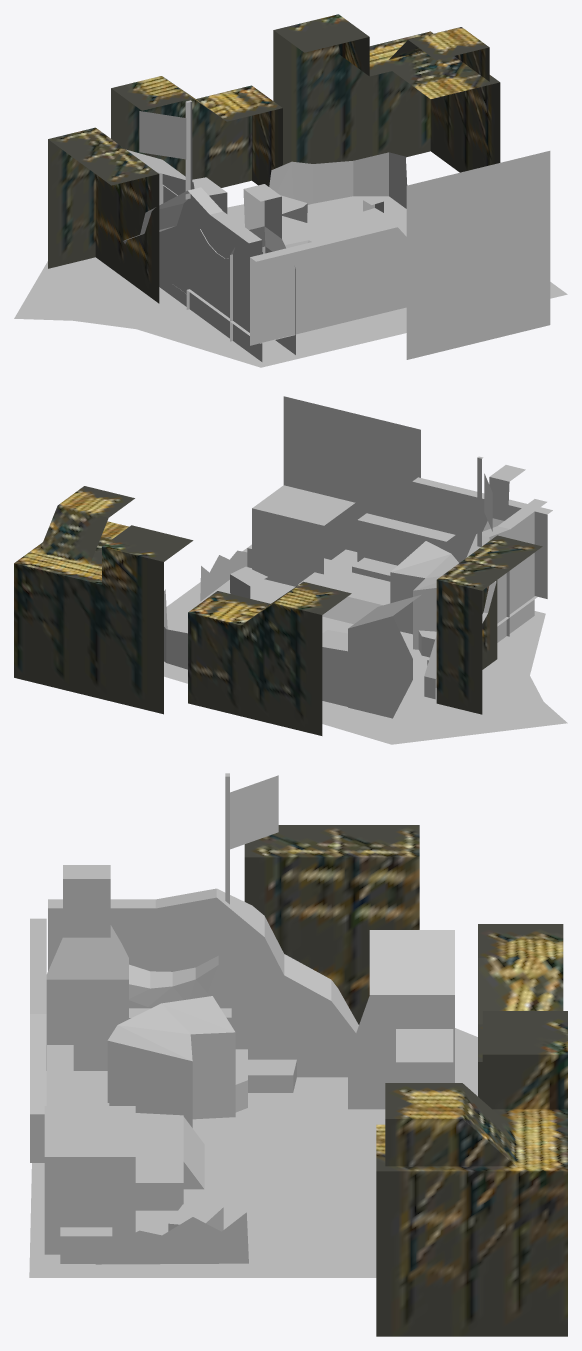
Rendered from T_SupplyTent_01.fbx.
3 renders of one model, top to bottom at view 1: azimuth 30°, elevation 25°; view 2: azimuth 150°, elevation 25°; view 3: azimuth 270°, elevation 25°, orthographic. The views are drawn at different scales.
Parts seen in each view (by area): view 1: T_SupplyTent_01, T_BuildForm_01, T_BuildForm_02 (4), T_BuildForm_03 (1); view 2: T_SupplyTent_01, T_BuildForm_01, T_BuildForm_03 (1), T_BuildForm_02 (4); view 3: T_SupplyTent_01, T_BuildForm_01, T_BuildForm_02 (4), T_BuildForm_03 (1).
Part boxes in pixels (<box>): T_SupplyTent_01: <box>14,100,567,367</box>; T_BuildForm_01: <box>273,14,500,172</box>; T_BuildForm_02 (4): <box>48,127,159,303</box>; T_BuildForm_03 (1): <box>111,76,282,187</box>; T_SupplyTent_01: <box>164,396,567,744</box>; T_BuildForm_01: <box>14,486,193,714</box>; T_BuildForm_03 (1): <box>188,581,351,735</box>; T_BuildForm_02 (4): <box>436,535,542,714</box>; T_SupplyTent_01: <box>29,773,477,1277</box>; T_BuildForm_01: <box>376,1011,567,1336</box>; T_BuildForm_02 (4): <box>244,825,419,1024</box>; T_BuildForm_03 (1): <box>478,924,563,1100</box>.
Bounding box in the file's own units: 10.47 × 4.74 × 7.31.
